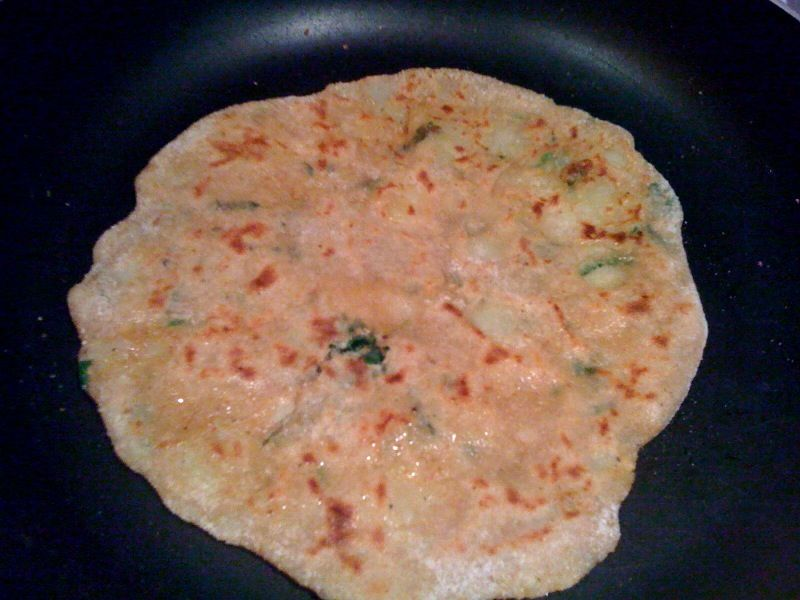aloo_paratha: (68, 72, 713, 600)
